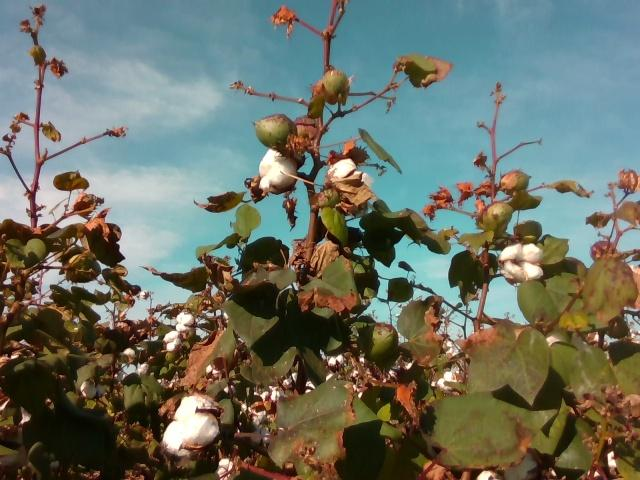cotton_ready: (163, 392, 220, 456), (325, 159, 373, 202), (501, 242, 546, 283), (259, 149, 297, 192)
